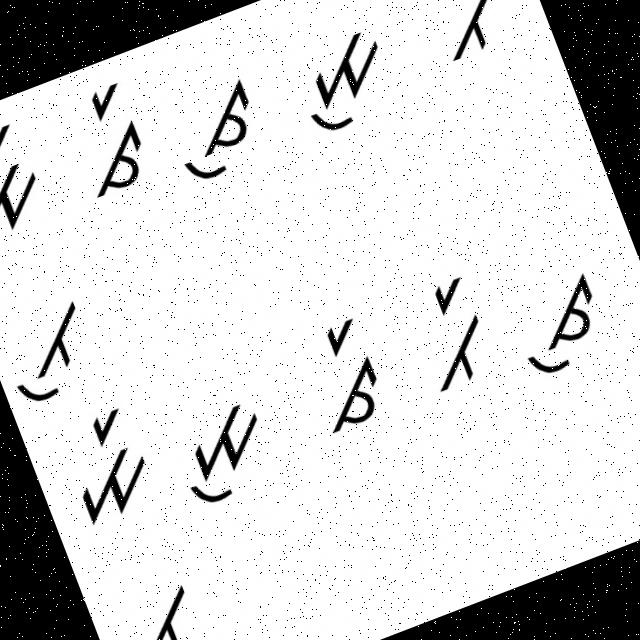bar: (402, 268, 506, 399), (410, 0, 531, 68)
baw: (0, 277, 112, 414), (86, 551, 221, 639)
car: (52, 72, 170, 222), (294, 303, 401, 436)
caw: (492, 246, 628, 391), (152, 67, 279, 190)
mar: (44, 401, 164, 531), (0, 113, 60, 254)
maw: (150, 368, 294, 518), (270, 11, 406, 144)
